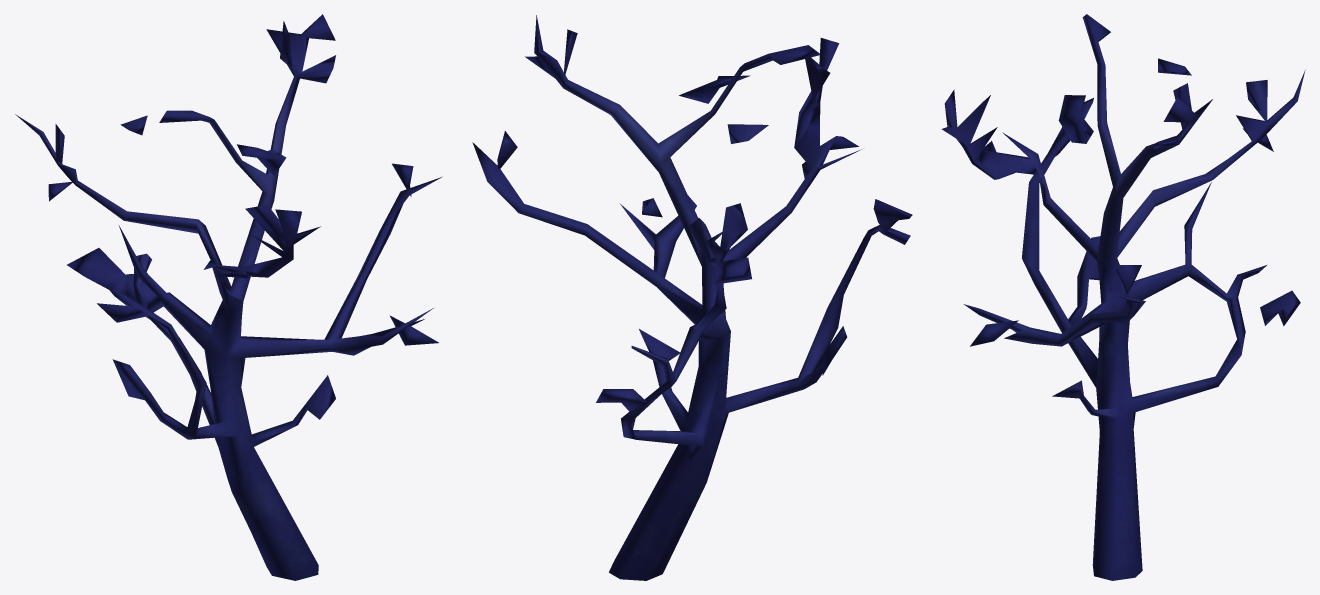
The model's file is Meshy_AI_model_20261128_texture.fbx.
3 renders of one model, left to right at view 1: azimuth 30°, elevation 25°; view 2: azimuth 150°, elevation 25°; view 3: azimuth 270°, elevation 25°, orthographic. The views are drawn at different scales.
Parts seen in each view (by area): view 1: geometry_0; view 2: geometry_0; view 3: geometry_0.
Part boxes in pixels (x1,y1,x2,y2): geometry_0: (15, 14, 442, 580); geometry_0: (472, 15, 912, 580); geometry_0: (941, 14, 1305, 580).
Bounding box in the file's own units: 78.69 × 100 × 65.86.
Materials: 1 (1 with a texture image).
